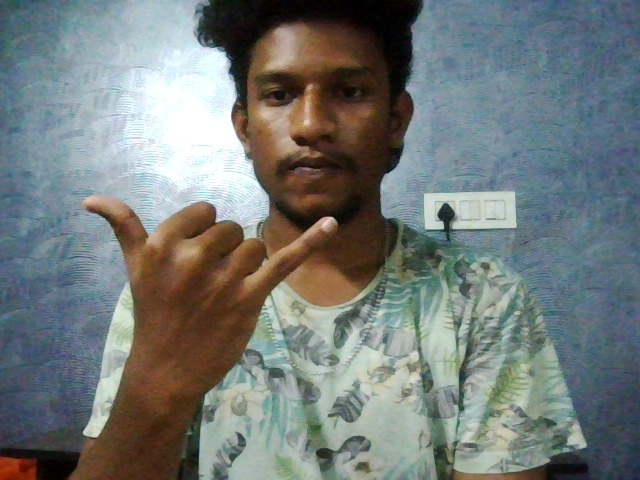good luck: (53, 168, 343, 436)
